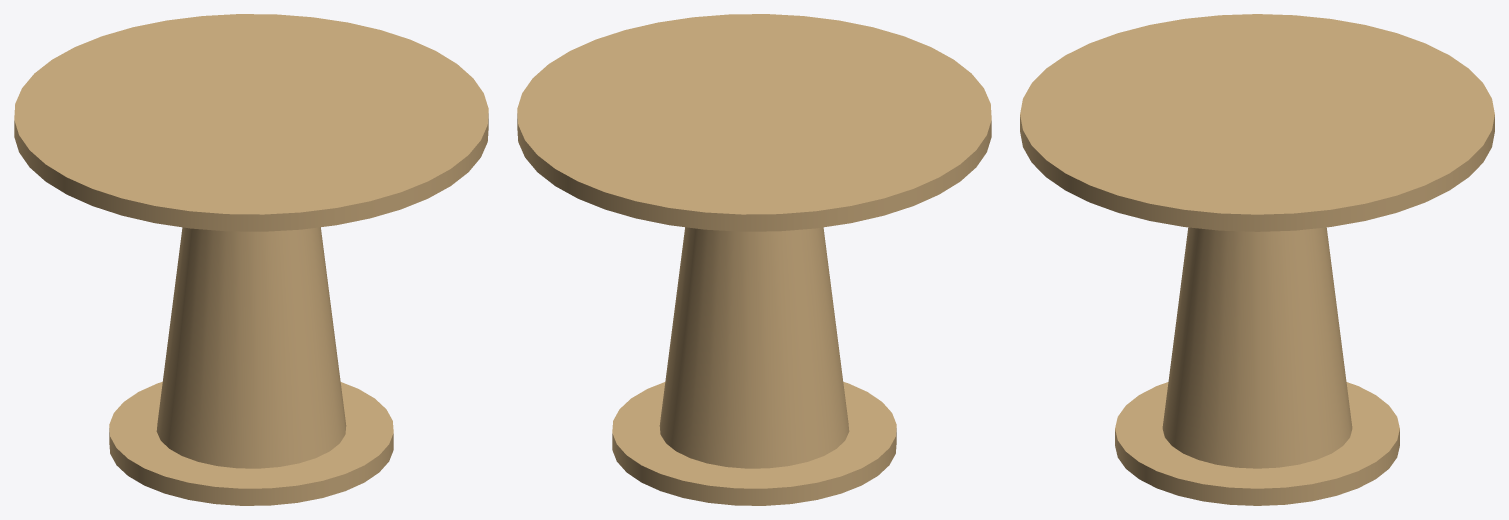
The model's file is round_table.glb.
The picture shows the model from 3 angles, left to right: view 1: azimuth 30°, elevation 25°; view 2: azimuth 150°, elevation 25°; view 3: azimuth 270°, elevation 25°; orthographic projection.
Parts seen in each view (by area): view 1: round_table; view 2: round_table; view 3: round_table.
Boxes of the visible parts, bbox=[...] form: round_table: bbox=[14, 14, 488, 505]; round_table: bbox=[517, 14, 991, 505]; round_table: bbox=[1020, 14, 1494, 505].
Bounding box in the file's own units: 1 × 0.77 × 1.
